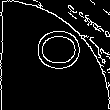O_W: (28, 32, 82, 78)
